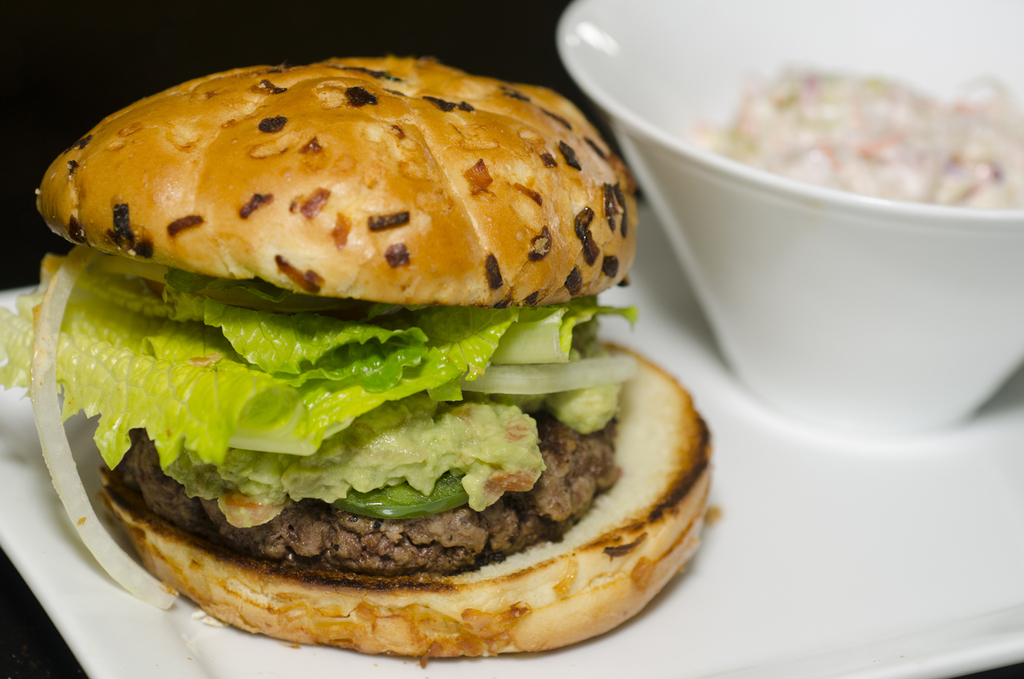Hamburger: (0, 57, 714, 665)
